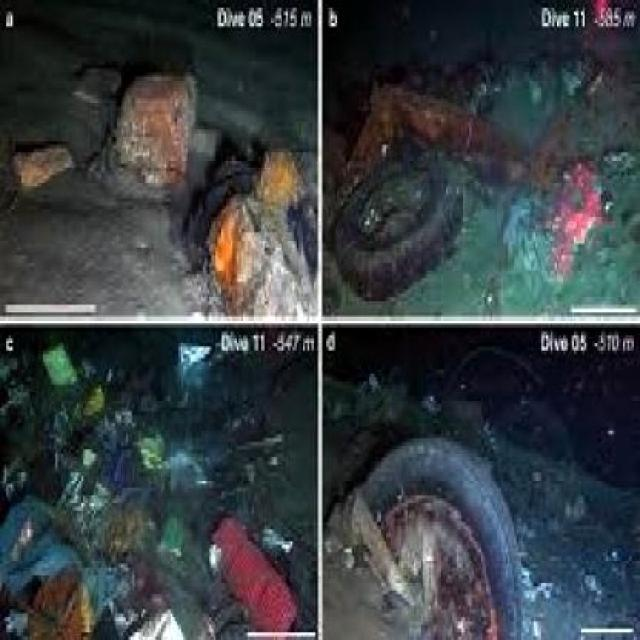pbottle: (195, 491, 303, 632)
plastic: (15, 118, 90, 218), (2, 526, 82, 576), (35, 339, 88, 396)
tire: (364, 411, 562, 640), (331, 118, 478, 298)
